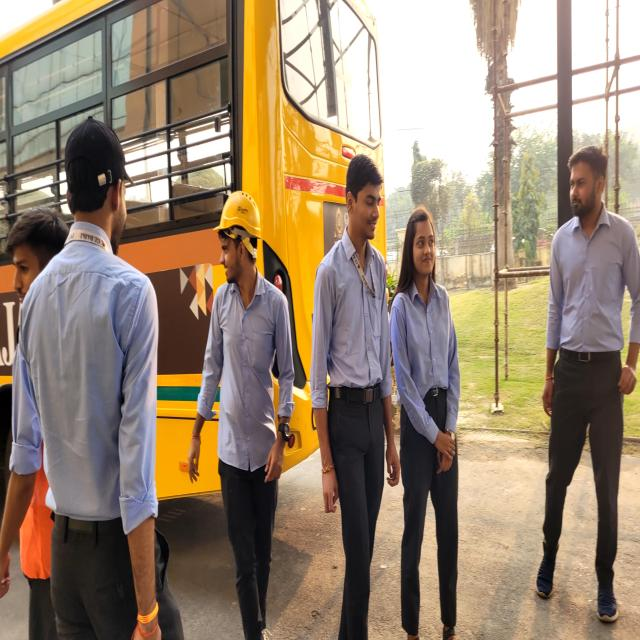no jacket: (194, 189, 296, 640)
unsafe: (0, 110, 169, 639), (539, 137, 640, 624), (312, 151, 397, 640), (402, 202, 470, 640)
